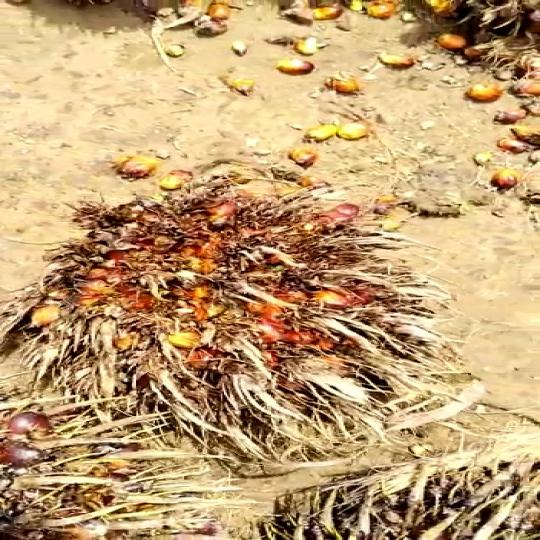terlalu masak: (19, 168, 462, 470)
